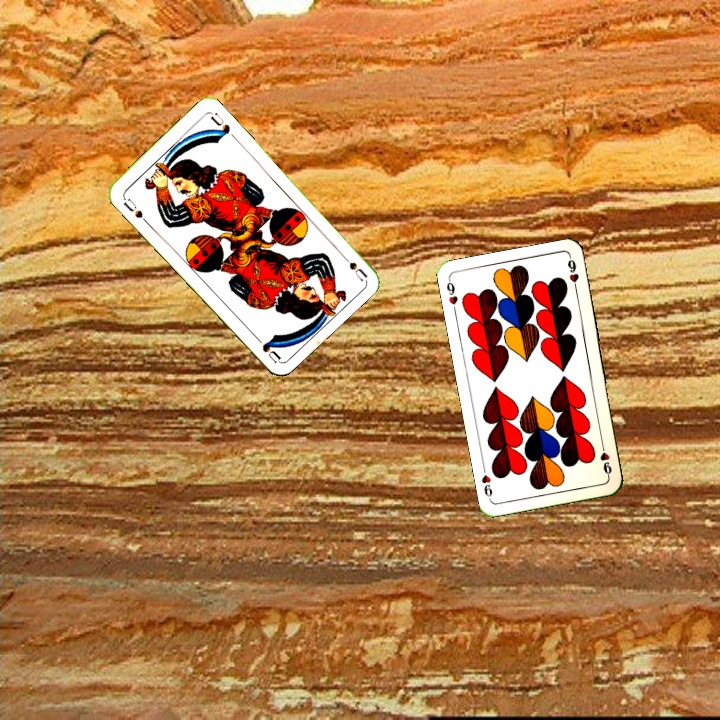H9: (442, 275, 460, 316), (596, 439, 614, 479)
SU: (336, 248, 369, 283), (119, 193, 150, 226)
